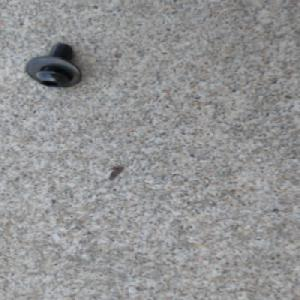BoltWasher: (24, 42, 84, 88)
